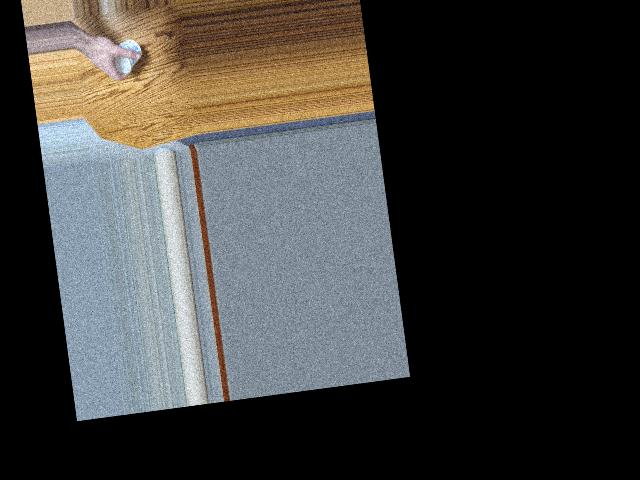cotage: (105, 35, 142, 77)
